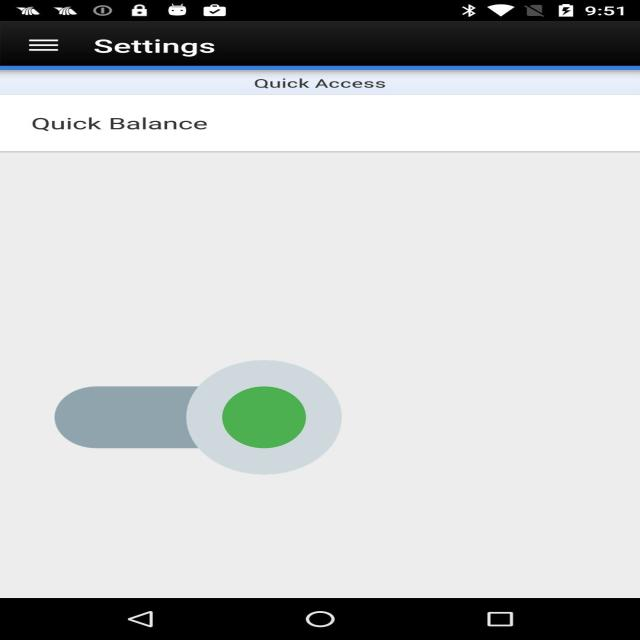social proof: (54, 312, 342, 524)
